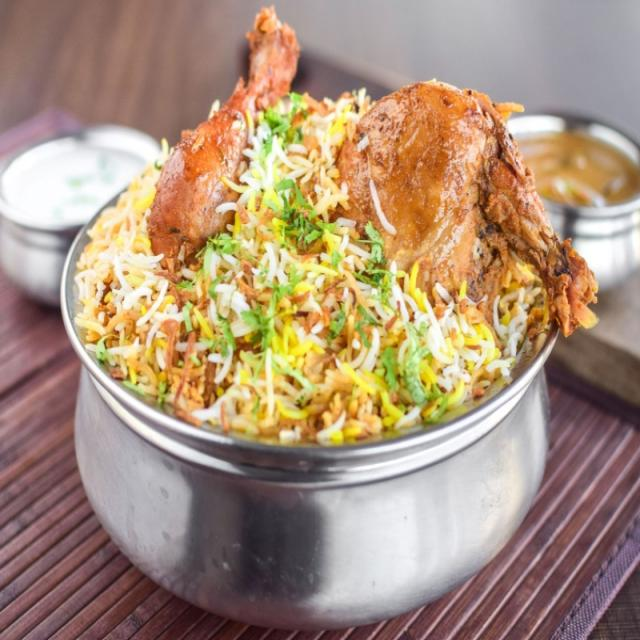Biryani: (70, 17, 562, 454)
